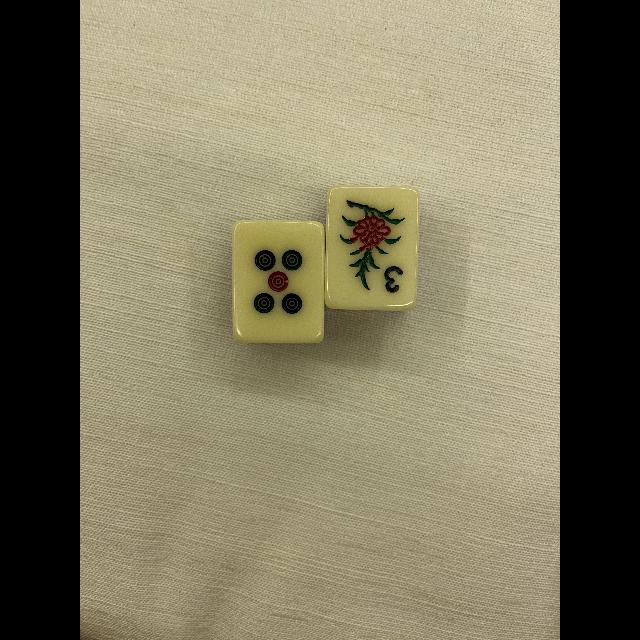d5: (232, 222, 322, 338)
f3-s: (328, 188, 414, 306)
